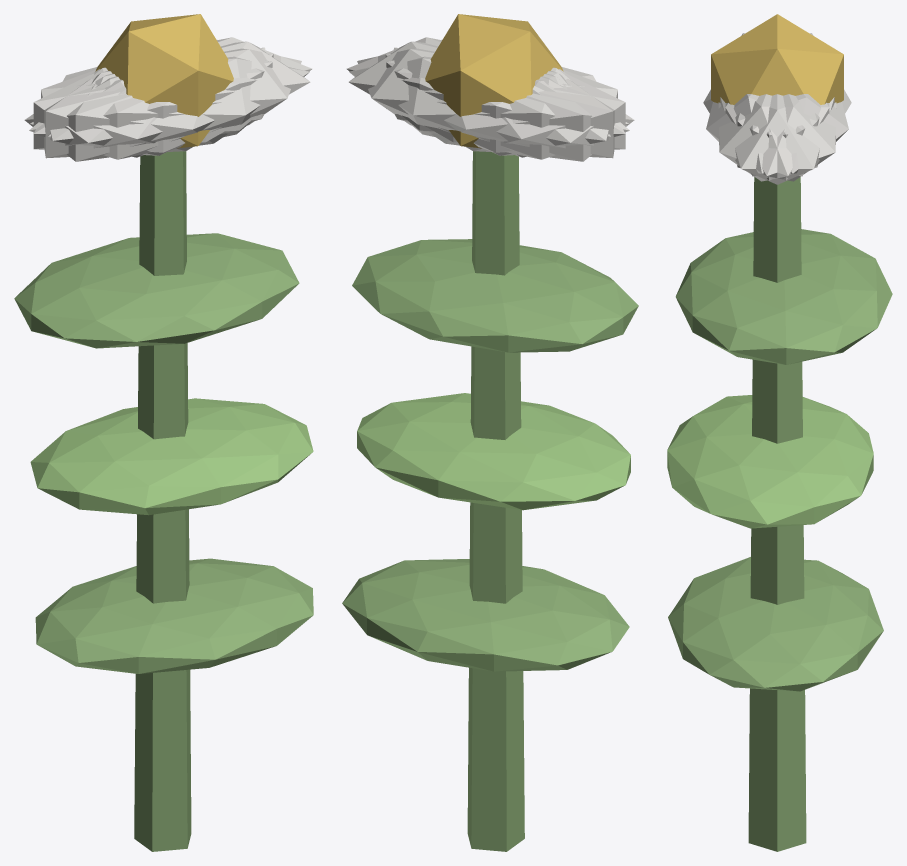
Rendered from cycas-revoluta.glb.
3 renders of one model, left to right at view 1: azimuth 30°, elevation 25°; view 2: azimuth 150°, elevation 25°; view 3: azimuth 270°, elevation 25°, orthographic.
Parts seen in each view (by area): view 1: stem, leaf1, leaf2, leaf0, center, petal1, petal6, petal2, petal5, petal7, petal0, petal4 (+2 smaller); view 2: stem, leaf2, leaf0, leaf1, center, petal8, petal3, petal7, petal4, petal2, petal0, petal5 (+2 smaller); view 3: stem, leaf2, leaf0, leaf1, center, petal0, petal5, petal4, petal8, petal1.
Boxes of the visible parts, x1,y1,x2,y2 form: stem: (134, 151, 191, 851); leaf1: (30, 398, 313, 515); leaf2: (14, 233, 299, 348); leaf0: (35, 558, 313, 673); center: (95, 14, 233, 148); petal1: (29, 56, 309, 159); petal6: (24, 69, 227, 161); petal2: (44, 47, 265, 158); petal5: (48, 48, 301, 152); petal7: (33, 53, 273, 155); petal0: (95, 41, 310, 142); petal4: (30, 37, 312, 134); stem: (467, 151, 524, 851); leaf2: (352, 239, 638, 352); leaf0: (342, 559, 629, 671); leaf1: (357, 393, 630, 510); center: (425, 14, 563, 148); petal8: (349, 56, 629, 159); petal3: (431, 69, 634, 161); petal7: (393, 47, 614, 158); petal4: (357, 48, 610, 152); petal2: (385, 53, 625, 155); petal0: (348, 41, 563, 142); petal5: (346, 37, 628, 134); stem: (748, 177, 806, 851); leaf2: (675, 229, 892, 364); leaf0: (668, 557, 883, 691); leaf1: (667, 395, 873, 528); center: (711, 14, 843, 104); petal0: (720, 94, 834, 184); petal5: (718, 94, 829, 181); petal4: (725, 94, 836, 181); petal8: (735, 94, 848, 173); petal1: (706, 94, 819, 173).
Size of the model in its own units: 0.1452 by 0.4103 by 0.1038.
